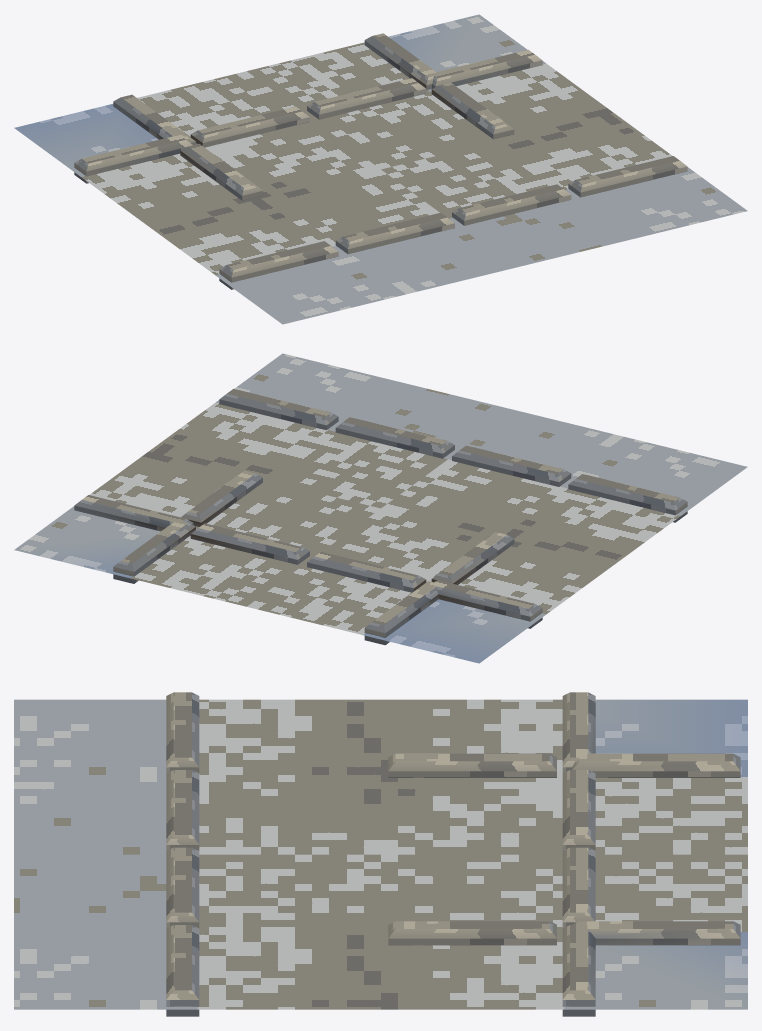
Rendered from mter.ground__path_tee.glb.
The picture shows the model from 3 angles, top to bottom: view 1: azimuth 30°, elevation 25°; view 2: azimuth 150°, elevation 25°; view 3: azimuth 270°, elevation 25°; orthographic projection. The views are drawn at different scales.
Parts seen in each view (by area): view 1: kit_shell_ground, kit_kerbs; view 2: kit_shell_ground, kit_kerbs; view 3: kit_shell_ground, kit_kerbs.
Boxes of the visible parts, left/top/right/bottom form: kit_shell_ground: left=14, top=14, right=747, bottom=324; kit_kerbs: left=74, top=33, right=687, bottom=289; kit_shell_ground: left=14, top=353, right=747, bottom=663; kit_kerbs: left=74, top=388, right=687, bottom=645; kit_shell_ground: left=14, top=699, right=747, bottom=1009; kit_kerbs: left=166, top=692, right=740, bottom=1016.
Bounding box in the file's own units: 4 × 0.14 × 4.
Materials: 3 (3 with a texture image).
